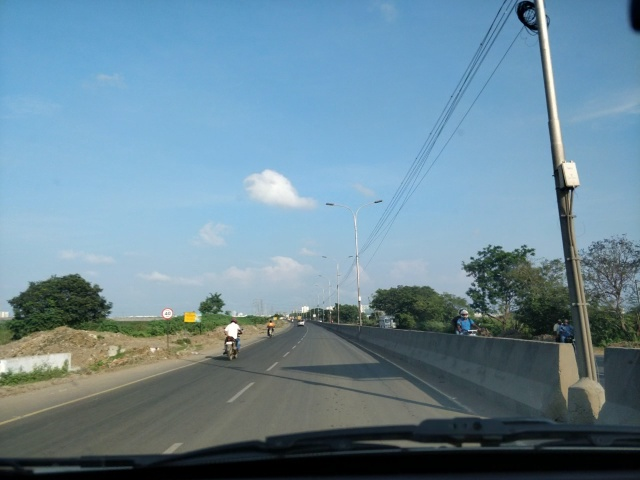car: (294, 317, 313, 329)
motorbike: (218, 313, 245, 362), (452, 309, 484, 337), (264, 318, 276, 341)
